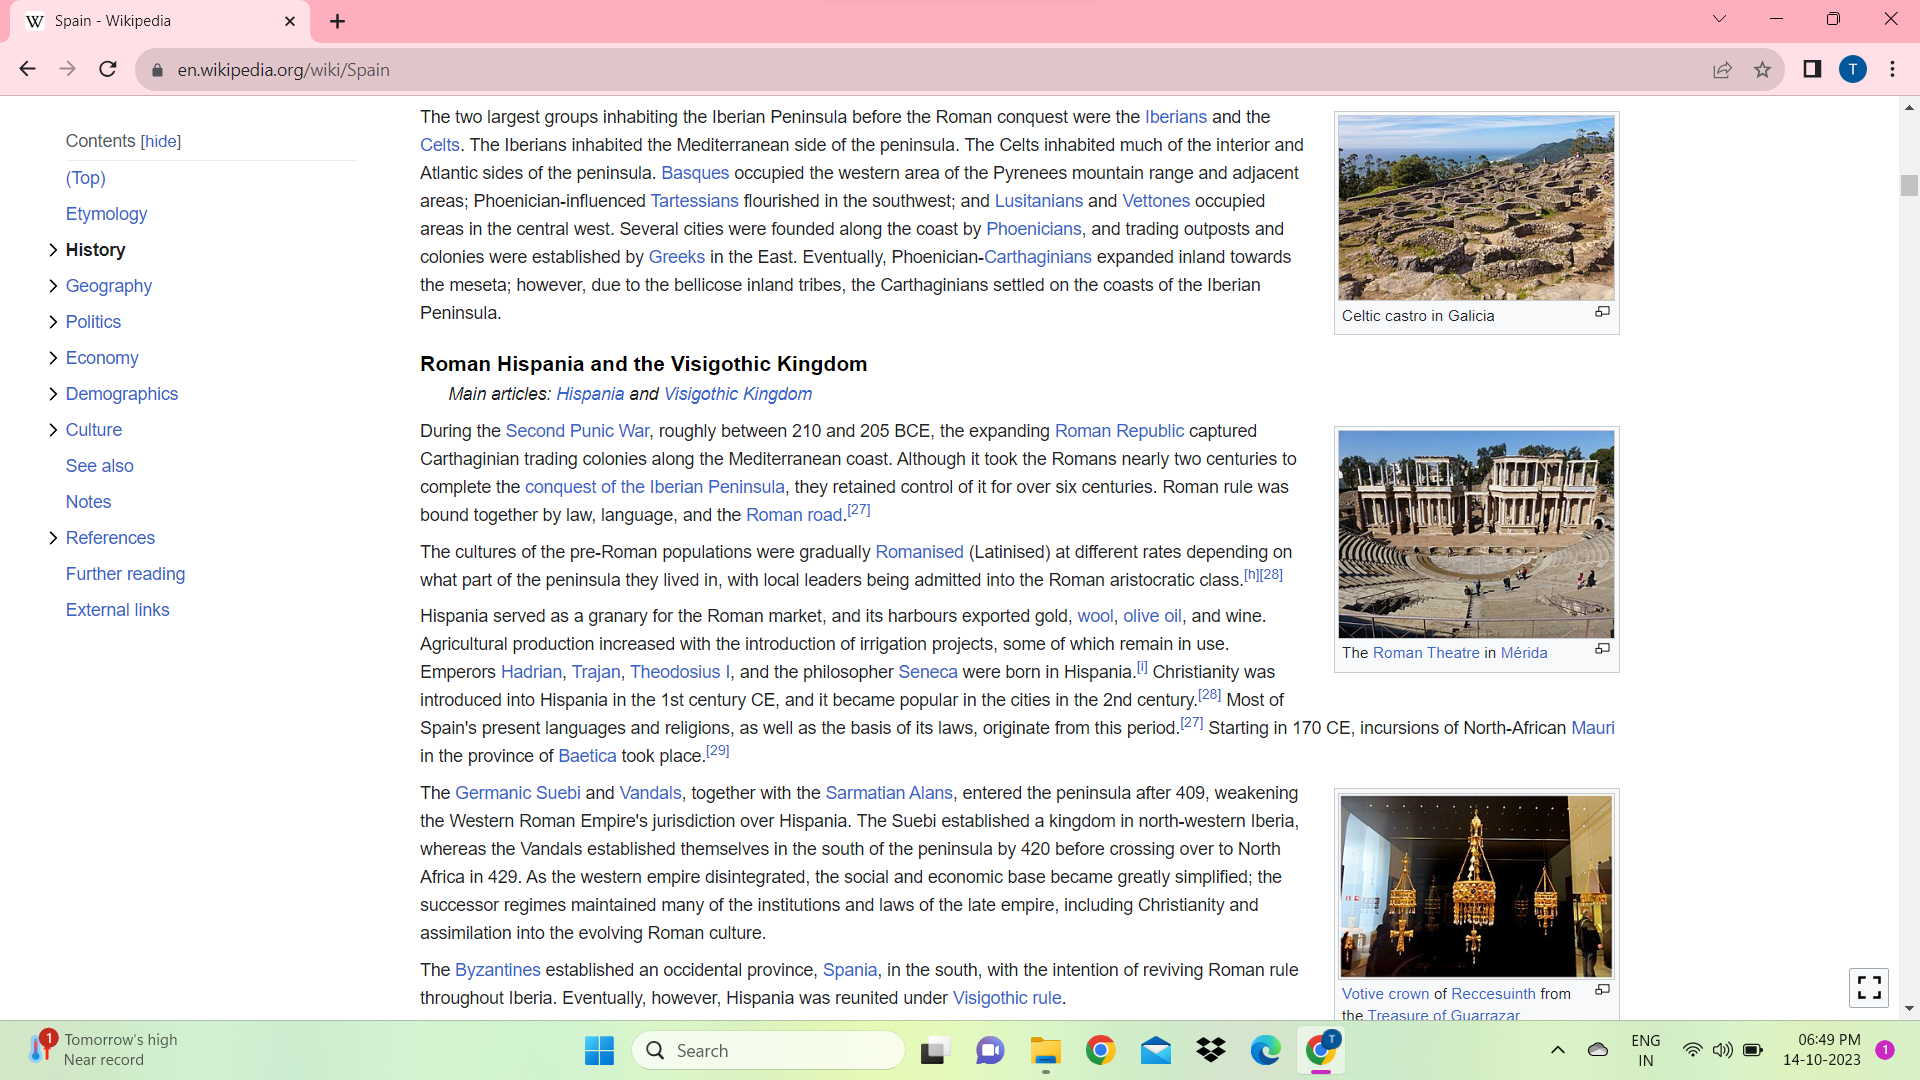Image: (1325, 419, 1624, 641), (1327, 790, 1622, 979), (1327, 114, 1622, 298)
Paragraph: (403, 600, 1689, 772), (414, 99, 1307, 324), (408, 774, 1301, 947), (406, 421, 1297, 526), (403, 949, 1320, 1010), (406, 533, 1301, 593), (397, 347, 880, 408), (52, 127, 198, 153), (56, 196, 157, 229), (60, 563, 192, 587), (54, 341, 153, 371), (67, 276, 179, 302), (60, 419, 136, 444), (58, 492, 119, 511)
